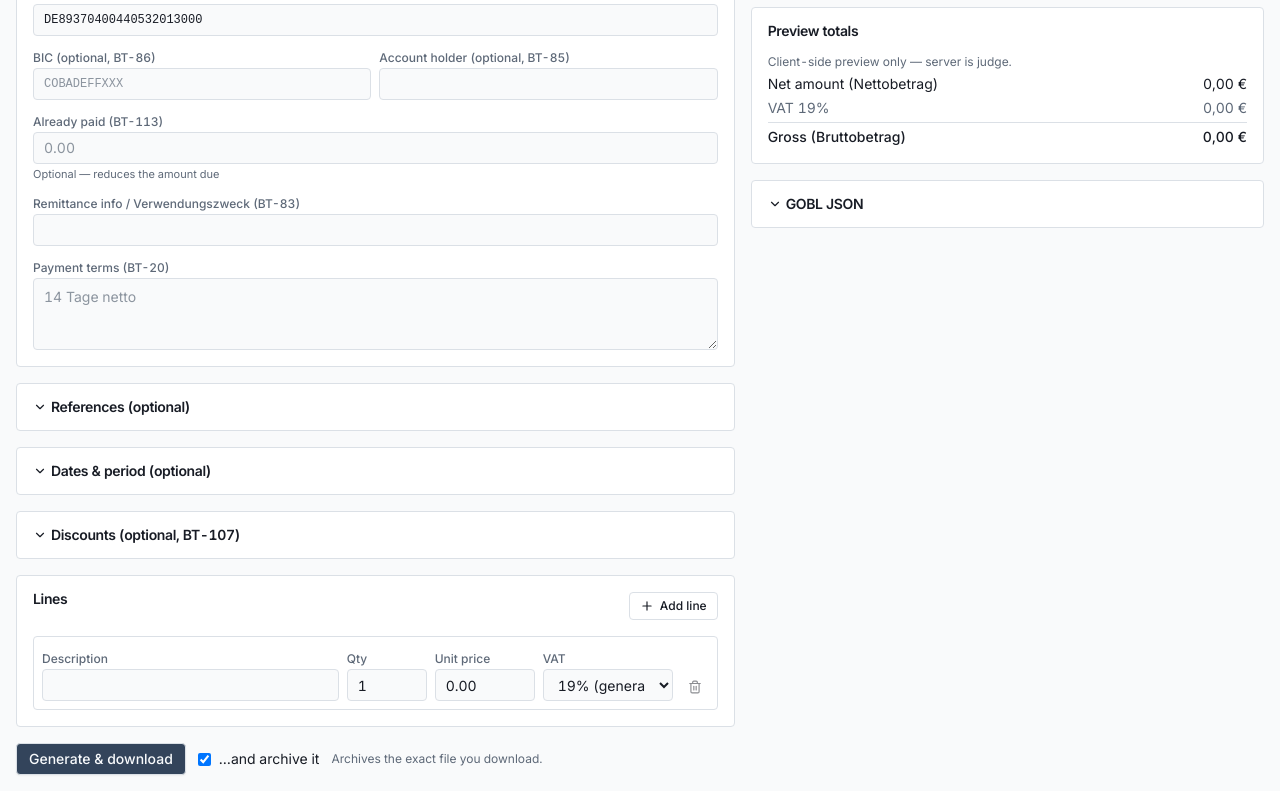
Test: NewInvoicePage › shows 422 error text as-is
The width and height of the screenshot is (1280, 791).
(page scrolled)
Click the button "Generate & download": {"x": 101, "y": 759} [16,743,186,775]
(page scrolled)
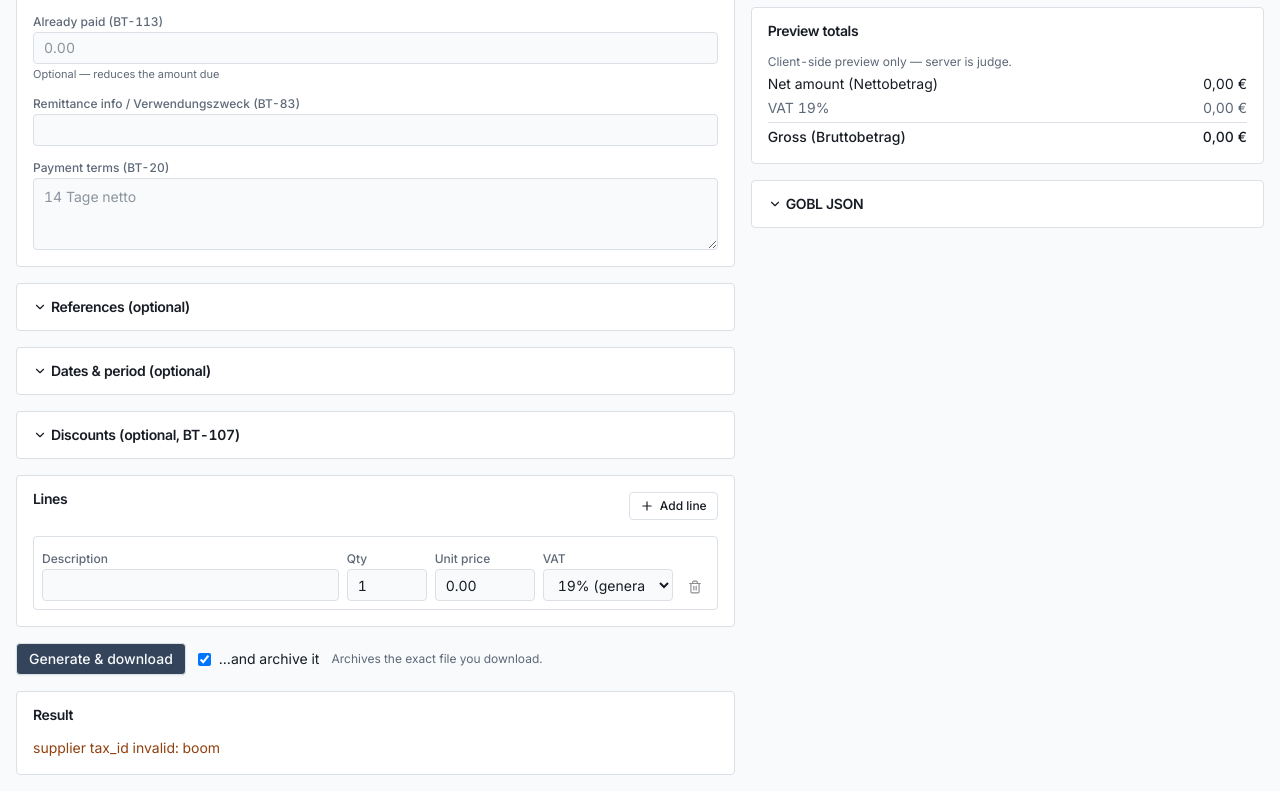
Check: the text "supplier tax_id invalid: boom" is shown, box [33,739,220,756]
